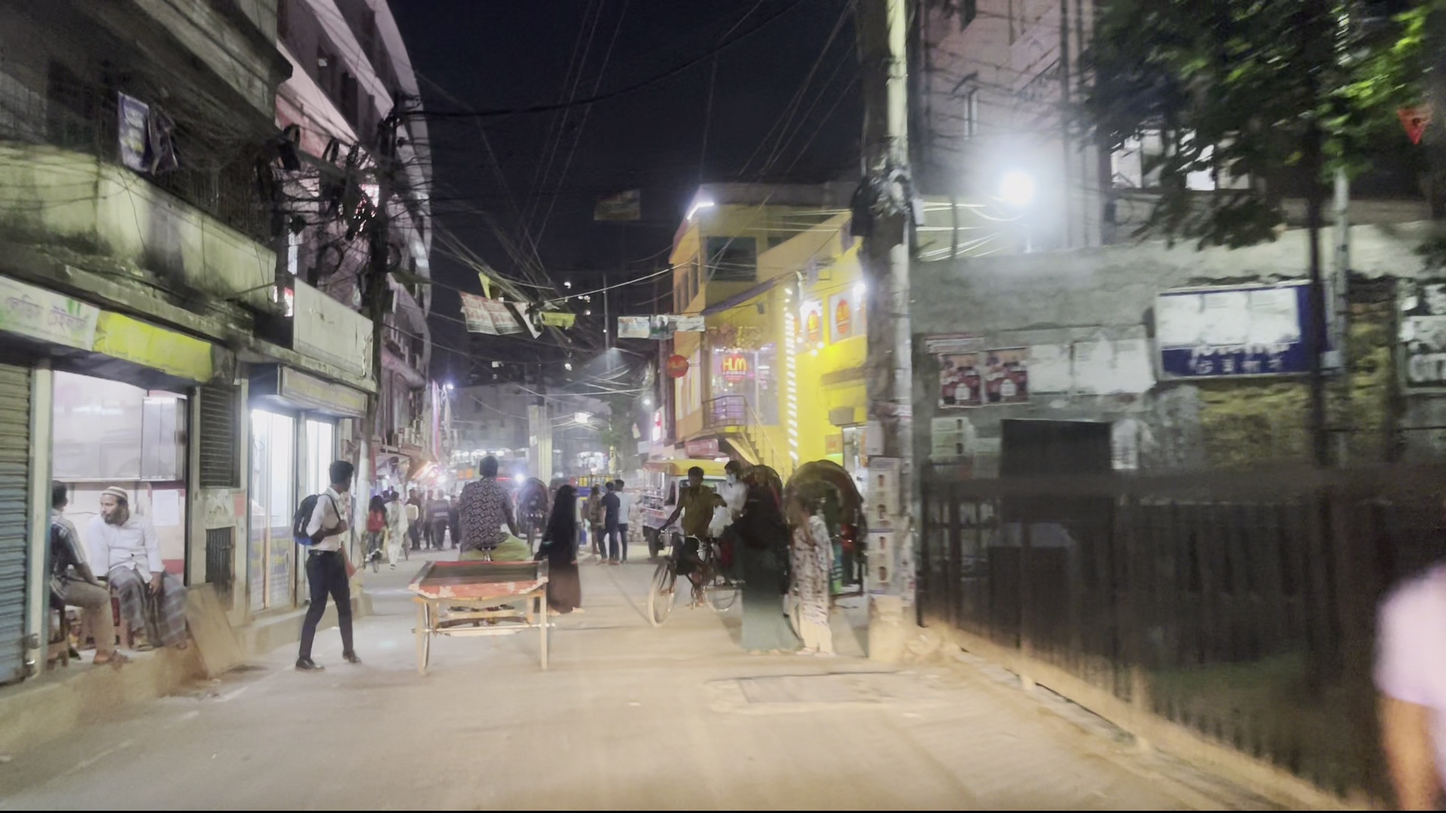person: (89, 478, 191, 653), (47, 476, 132, 671), (285, 475, 347, 678), (784, 492, 840, 659), (541, 479, 584, 623), (360, 491, 393, 577), (596, 477, 621, 565), (387, 489, 410, 574)
